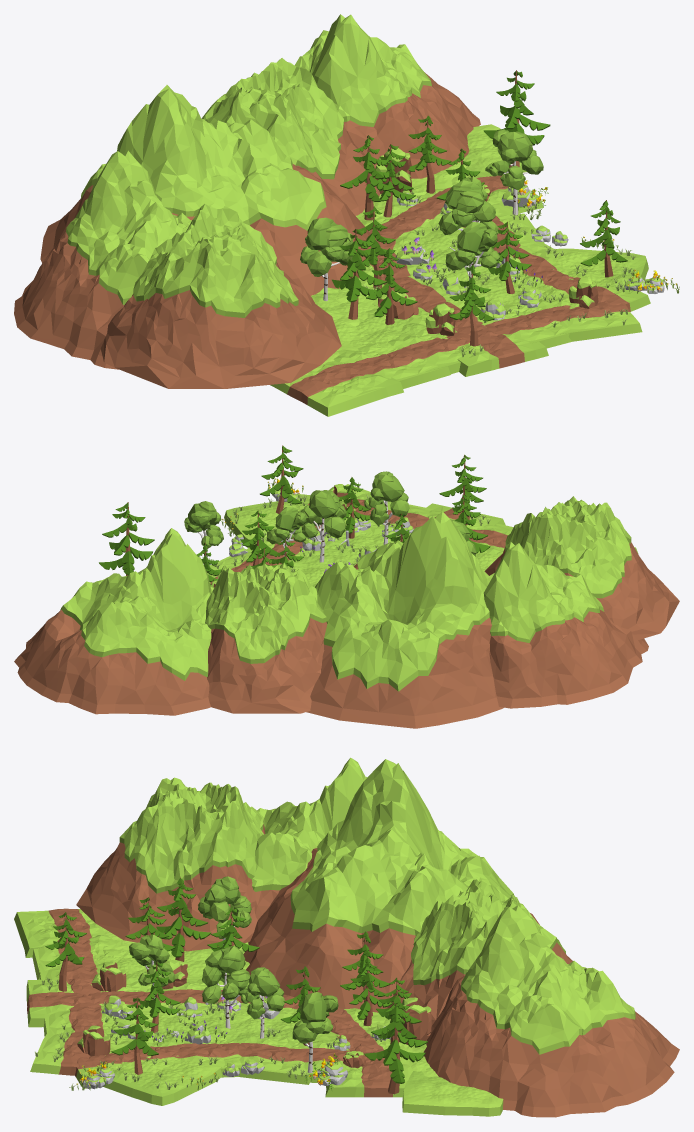
File: arkaplan.fbx
3 views of the same model, one above another, from view 1: azimuth 30°, elevation 25°; view 2: azimuth 150°, elevation 25°; view 3: azimuth 270°, elevation 25° (orthographic). The views are drawn at different scales.
Parts seen in each view (by area): view 1: PP_Forest_Mountain_Moss_02_9, PP_Forest_Mountain_Moss_01_8, PP_Forest_Mountain_Moss_01_2, PP_Forest_Mountain_Moss_01_1, PP_Forest_Mountain_Moss_02_10, PP_Meadow_Path_05_37, PP_Meadow_Path_05_45, PP_Meadow_Path_05_17, PP_Meadow_Path_05_6, PP_Birch_Tree_06_10, PP_Birch_Tree_05_4, PP_Meadow_07_3 (+33 smaller); view 2: PP_Forest_Mountain_Moss_01_8, PP_Forest_Mountain_Moss_01_1, PP_Forest_Mountain_Moss_01_2, PP_Forest_Mountain_Moss_02_10, PP_Forest_Mountain_Moss_02_9, PP_Birch_Tree_06_8, PP_Birch_Tree_05_8, PP_Tree_10_10, PP_Meadow_07_3, PP_Birch_Tree_05_4, PP_Birch_Tree_05_2, PP_Tree_10_9 (+12 smaller); view 3: PP_Forest_Mountain_Moss_01_1, PP_Forest_Mountain_Moss_01_8, PP_Forest_Mountain_Moss_02_9, PP_Forest_Mountain_Moss_02_10, PP_Forest_Mountain_Moss_01_2, PP_Meadow_07_3, PP_Meadow_08_5, PP_Meadow_Path_05_27, PP_Meadow_Path_05_37, PP_Birch_Tree_06_8, PP_Tree_10_10, PP_Meadow_Path_05_26 (+35 smaller).
Part boxes in pixels (x1,y1,x2,y2): PP_Forest_Mountain_Moss_02_9: (100,204,341,388); PP_Forest_Mountain_Moss_01_8: (40,85,371,295); PP_Forest_Mountain_Moss_01_2: (14,150,191,369); PP_Forest_Mountain_Moss_01_1: (294,14,480,178); PP_Forest_Mountain_Moss_02_10: (201,58,380,215); PP_Meadow_Path_05_37: (270,361,403,416); PP_Meadow_Path_05_45: (535,298,642,341); PP_Meadow_Path_05_17: (435,323,548,376); PP_Meadow_Path_05_6: (333,341,450,388); PP_Birch_Tree_06_10: (300,217,353,301); PP_Birch_Tree_05_4: (485,129,543,215); PP_Meadow_07_3: (542,248,648,293); PP_Forest_Mountain_Moss_01_8: (306,511,503,728); PP_Forest_Mountain_Moss_01_1: (14,528,213,715); PP_Forest_Mountain_Moss_01_2: (483,542,648,708); PP_Forest_Mountain_Moss_02_10: (205,562,327,713); PP_Forest_Mountain_Moss_02_9: (484,496,679,640); PP_Birch_Tree_06_8: (298,490,346,562); PP_Birch_Tree_05_8: (364,471,409,544); PP_Tree_10_10: (99,502,154,575); PP_Meadow_07_3: (224,499,324,547); PP_Birch_Tree_05_4: (184,501,223,557); PP_Birch_Tree_05_2: (266,507,306,557); PP_Tree_10_9: (260,445,303,513); PP_Forest_Mountain_Moss_01_1: (423,905,679,1117); PP_Forest_Mountain_Moss_01_8: (243,759,539,1012); PP_Forest_Mountain_Moss_02_9: (76,777,265,951); PP_Forest_Mountain_Moss_02_10: (386,879,572,1025); PP_Forest_Mountain_Moss_01_2: (252,757,367,919); PP_Meadow_07_3: (103,1045,221,1105); PP_Meadow_08_5: (402,1067,503,1116); PP_Meadow_Path_05_27: (224,1030,309,1084); PP_Meadow_Path_05_37: (14,908,104,957); PP_Birch_Tree_06_8: (202,946,250,1028); PP_Tree_10_10: (364,996,427,1094); PP_Meadow_Path_05_26: (325,1050,412,1097).
Size of the model in its own units: 21459 by 6668 by 22656.
11 materials, 1 textured.
